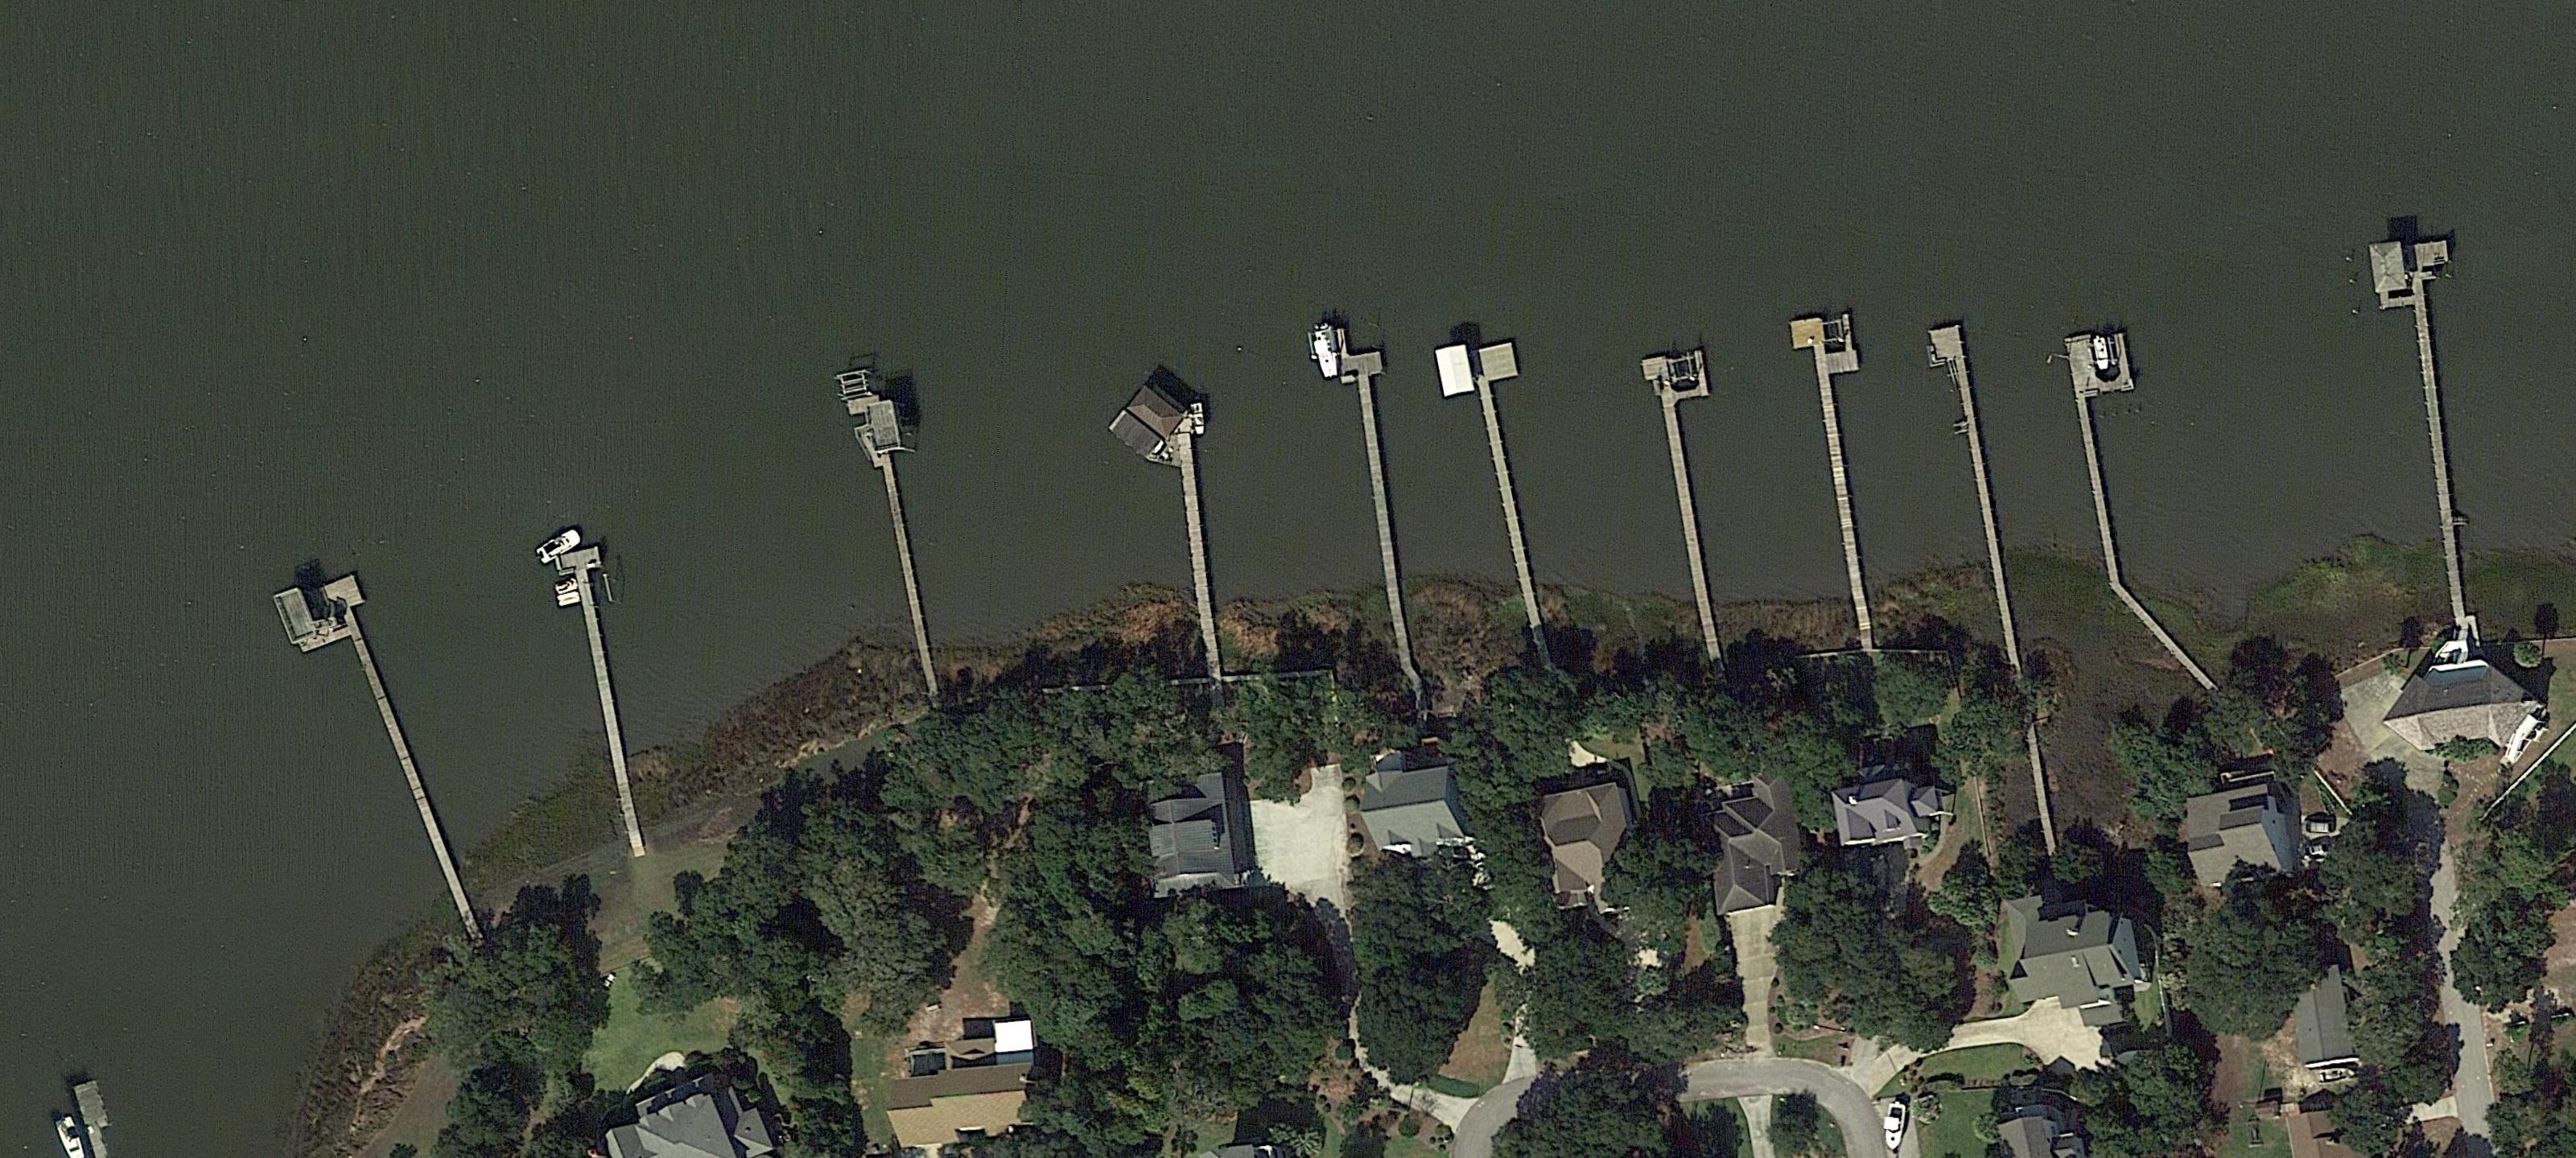harbor: (273, 567, 481, 923), (2369, 238, 2491, 609), (1434, 335, 1562, 604), (1102, 381, 1224, 650), (1787, 312, 1891, 603), (1929, 325, 2019, 657), (552, 547, 654, 833), (848, 391, 948, 678), (1640, 352, 1743, 629), (1332, 322, 1421, 644), (2063, 327, 2160, 586)
ship: (532, 526, 585, 567), (1313, 324, 1344, 378), (1883, 1101, 1906, 1151), (2318, 1066, 2357, 1084), (2091, 335, 2109, 373), (1189, 402, 1207, 437), (554, 575, 578, 596), (555, 591, 582, 609)
